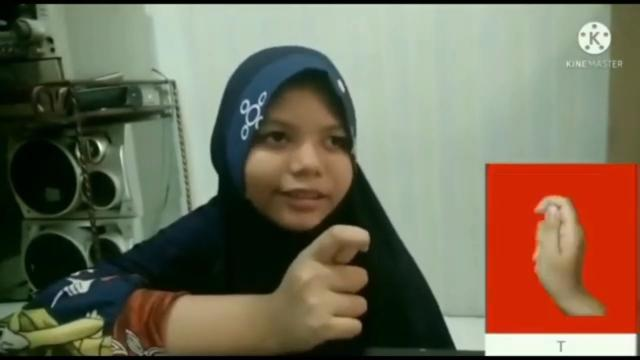T: (278, 224, 372, 354), (530, 195, 604, 317)
